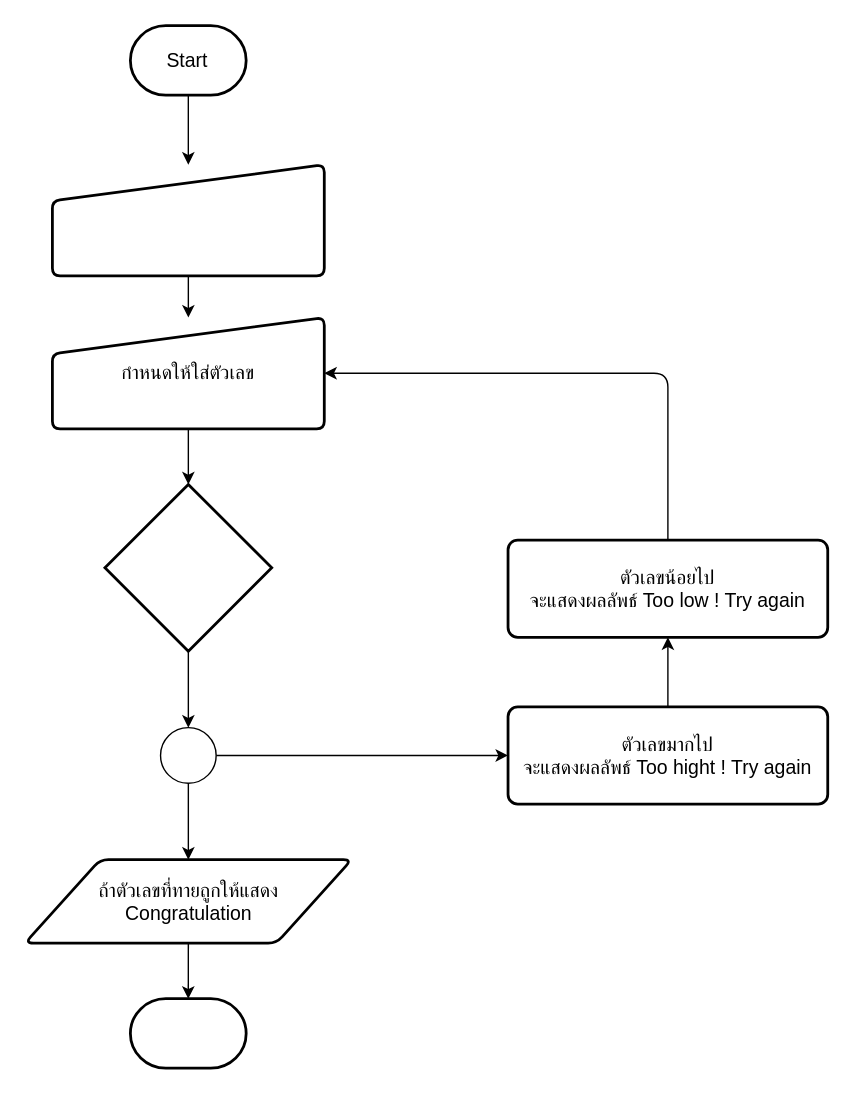
Image size: 853x1093. Some labels were removed from this diagram. The shapes that lost their labels are listed below. From the top down, each one's centre as x and y in pixels, then its label:
the point at 187,220: กำหนดตัวแปรรับค่าตัวเลข 1-100
the point at 187,567: ผลลัพธ์
the point at 187,1033: Stop
